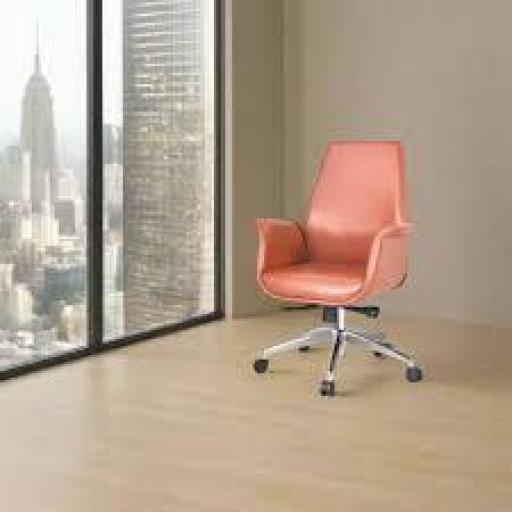chair: (244, 134, 436, 398)
